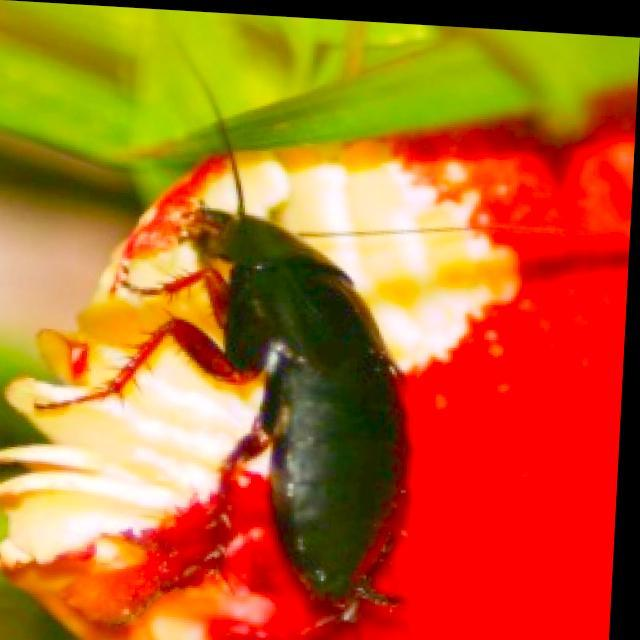cockroach: (160, 194, 430, 639)
